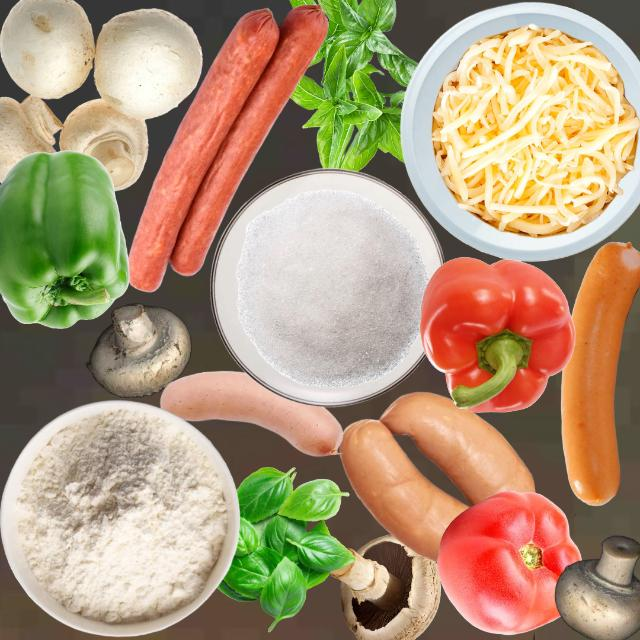Flour: (15, 407, 227, 624)
Sugar: (235, 188, 428, 387)
